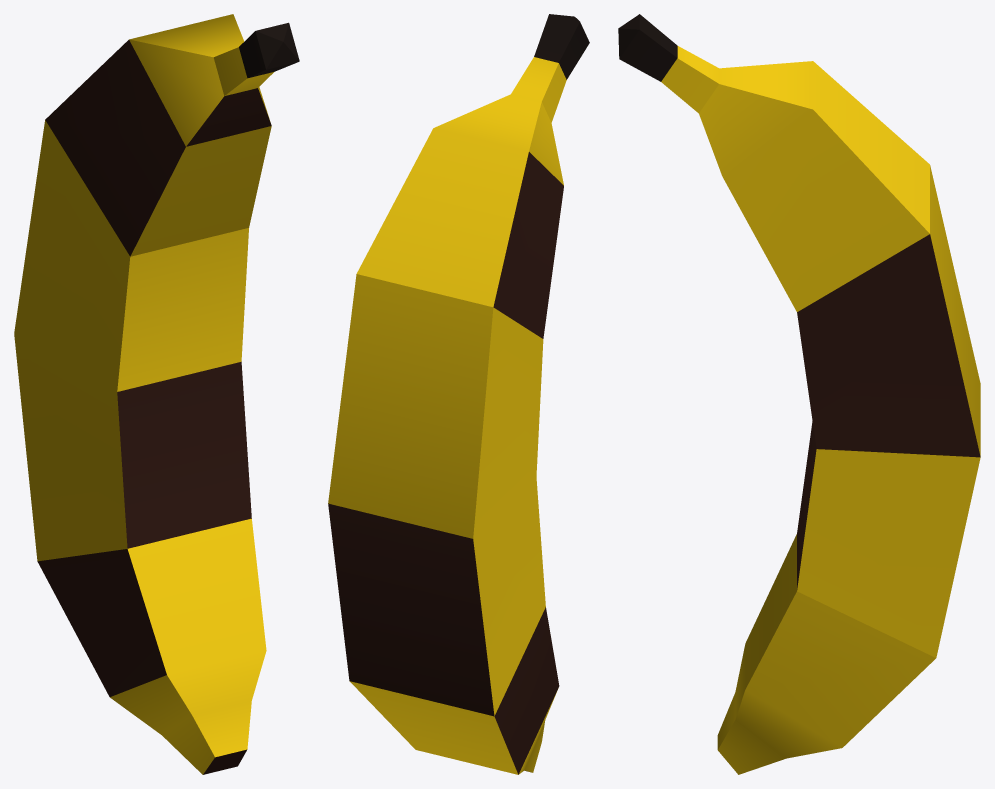
The model's file is BananaVariante.obj.
3 renders of one model, left to right at view 1: azimuth 30°, elevation 25°; view 2: azimuth 150°, elevation 25°; view 3: azimuth 270°, elevation 25°, orthographic. The views are drawn at different scales.
Parts seen in each view (by area): view 1: Banana_01; view 2: Banana_01; view 3: Banana_01.
Part boxes in pixels (box(x1,y1,x2,y2)): Banana_01: box(14, 14, 299, 774); Banana_01: box(328, 14, 589, 774); Banana_01: box(618, 14, 980, 774).
Size of the model in its own units: 20.76 by 97.95 by 43.17.
